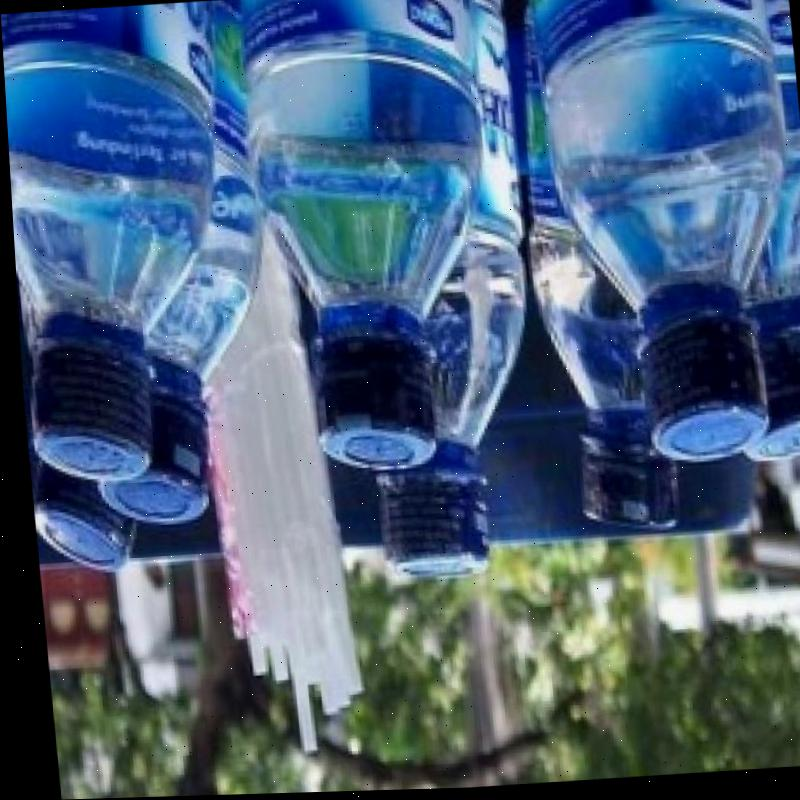botella: (230, 0, 520, 479), (328, 0, 552, 586), (533, 0, 800, 474), (0, 1, 249, 483), (61, 88, 281, 528), (499, 0, 679, 537), (701, 0, 800, 471), (24, 463, 133, 574)
